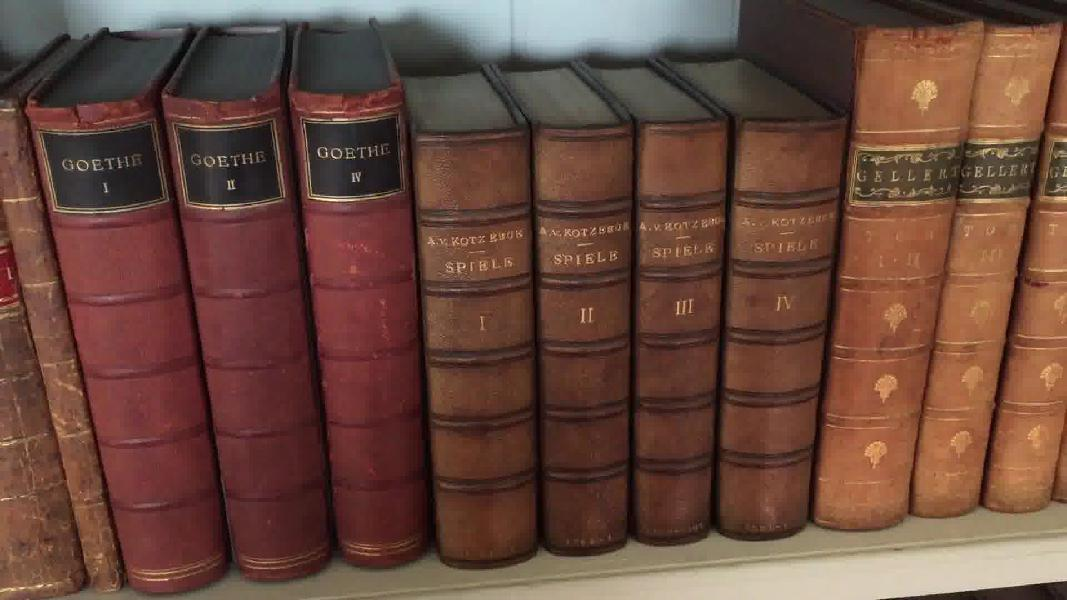Aa6-11_13: (27, 94, 455, 600)
Aa6-14_17: (408, 124, 847, 563)
